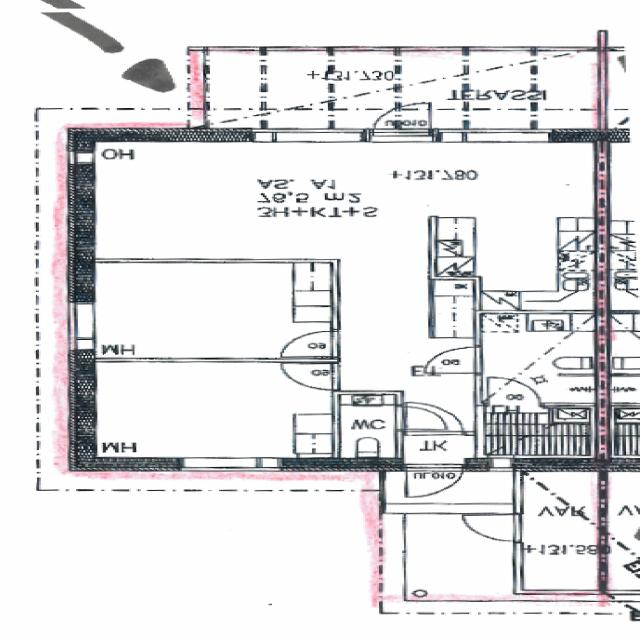door: (373, 99, 431, 143), (406, 458, 464, 501), (459, 515, 522, 541), (408, 406, 462, 436), (489, 378, 540, 408), (281, 364, 339, 390), (282, 332, 339, 357), (425, 348, 481, 373), (396, 408, 447, 430)
